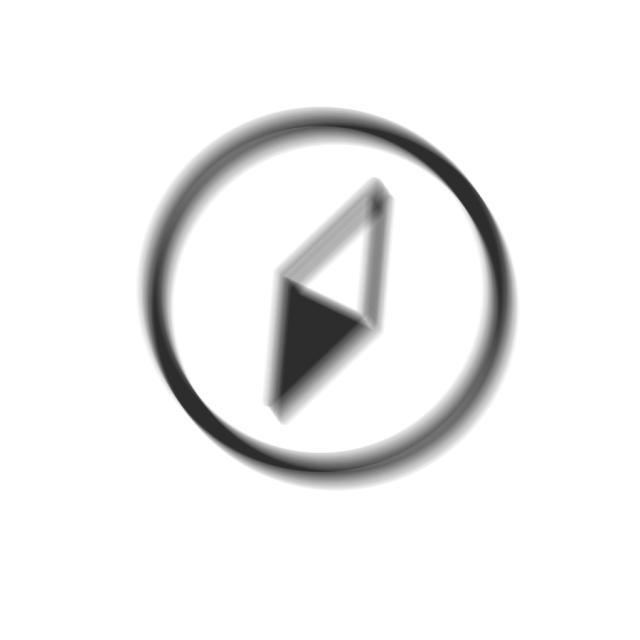compass: (135, 104, 525, 497)
